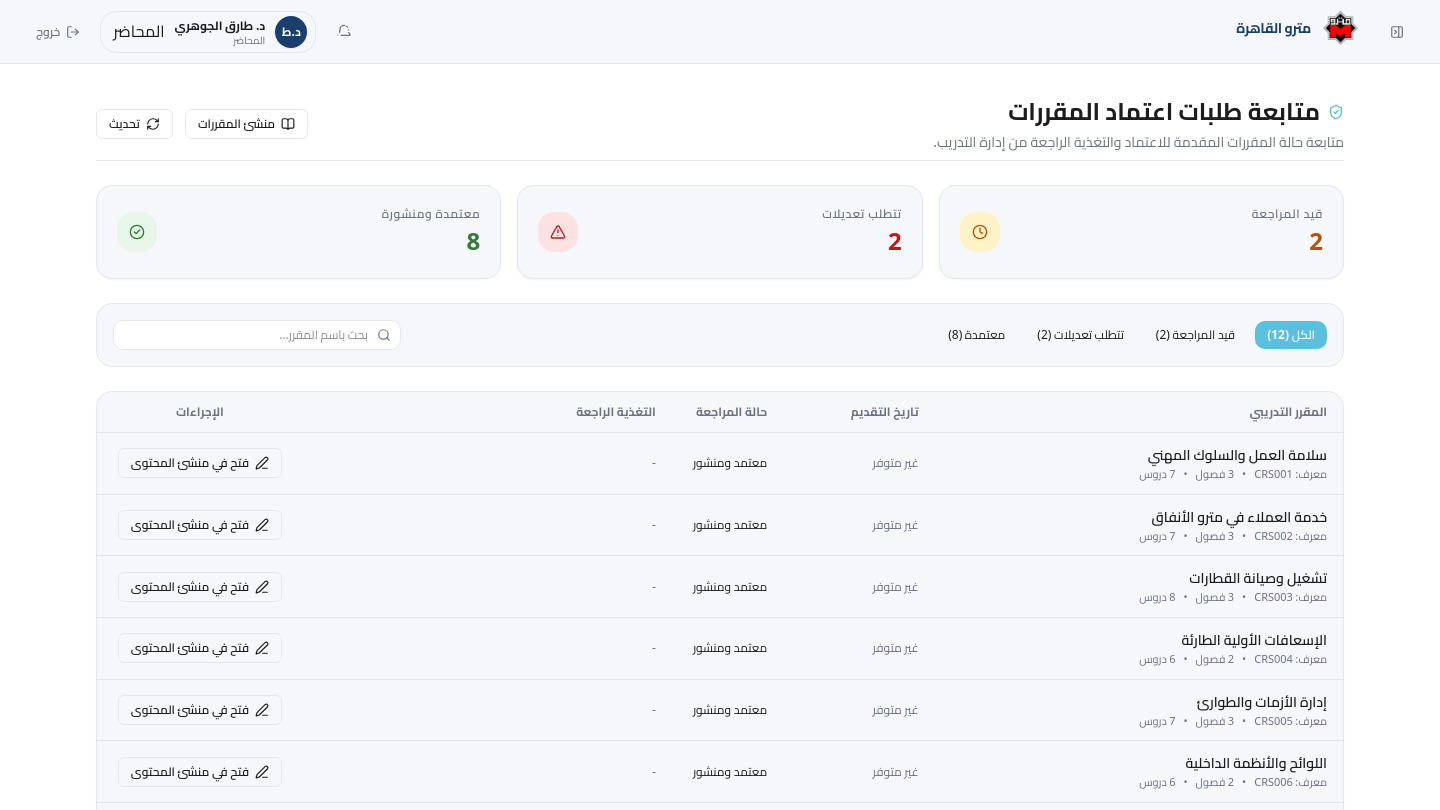
Scenario: Increment 9 — Review Workflow Demo Data Seeding & End-to-End Consistency › 2. Lecturer Approvals Dashboard & Submission States › filters lecturer submissions across tabs seamlessly
Note: Switch to "تتطلب تعديلات"
What coordinates should you click on to do the following:
click the button with test id "lecturer-filter-needs-revision"
I would click on:
 (1081, 335)
Its box is x1=1025 y1=321 x2=1136 y2=349.
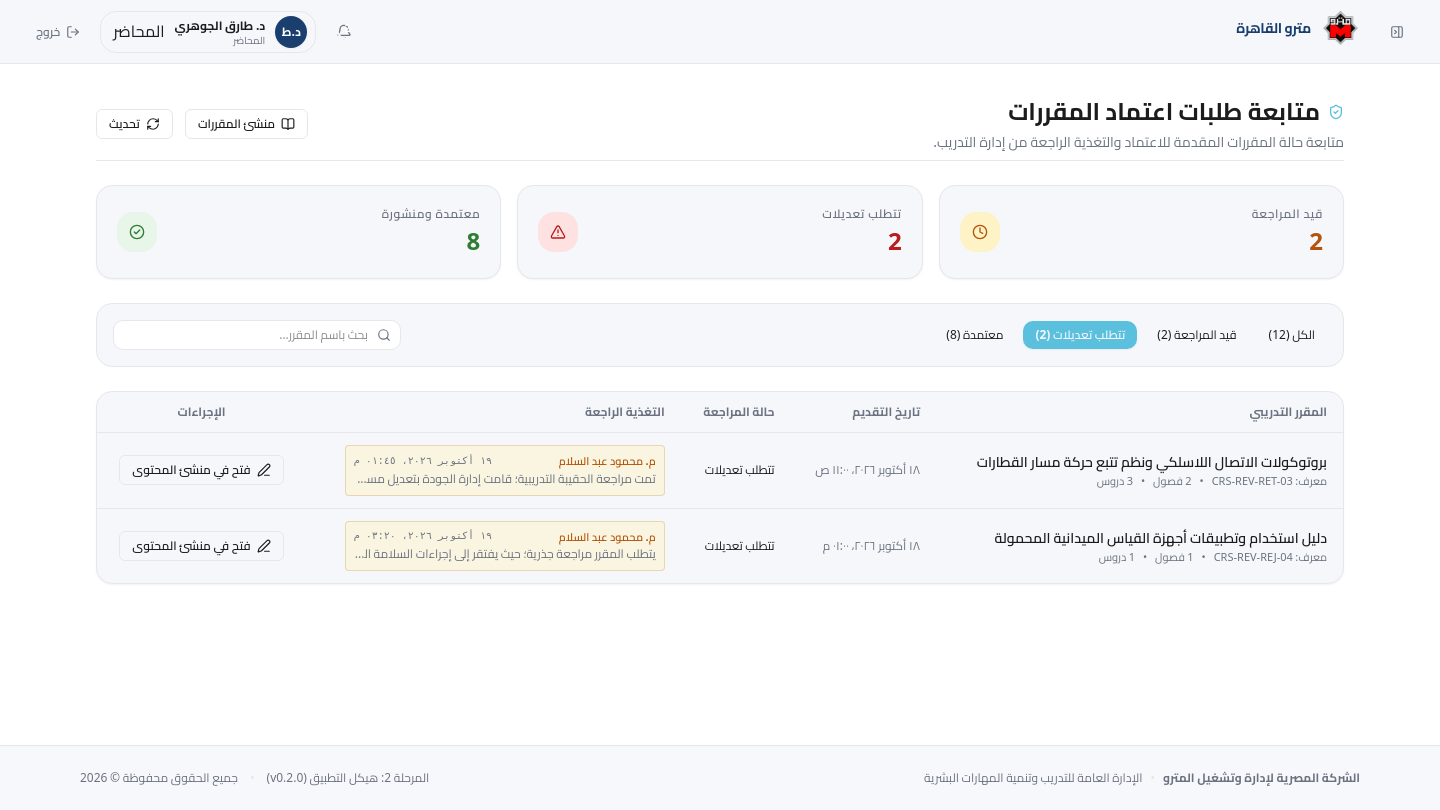
Expected: the row with test id "submission-row-CRS-REV-RET-03" is shown, x1=97 y1=432 x2=1343 y2=508
Expected: the row with test id "submission-row-CRS-REV-REJ-04" is shown, x1=97 y1=508 x2=1343 y2=583
Note: Switch to "معتمدة ومنشورة"
What coordinates should you click on to do the following:
click the button with test id "lecturer-filter-approved"
I would click on:
 (975, 335)
Its box is x1=934 y1=321 x2=1015 y2=349.
(page scrolled)
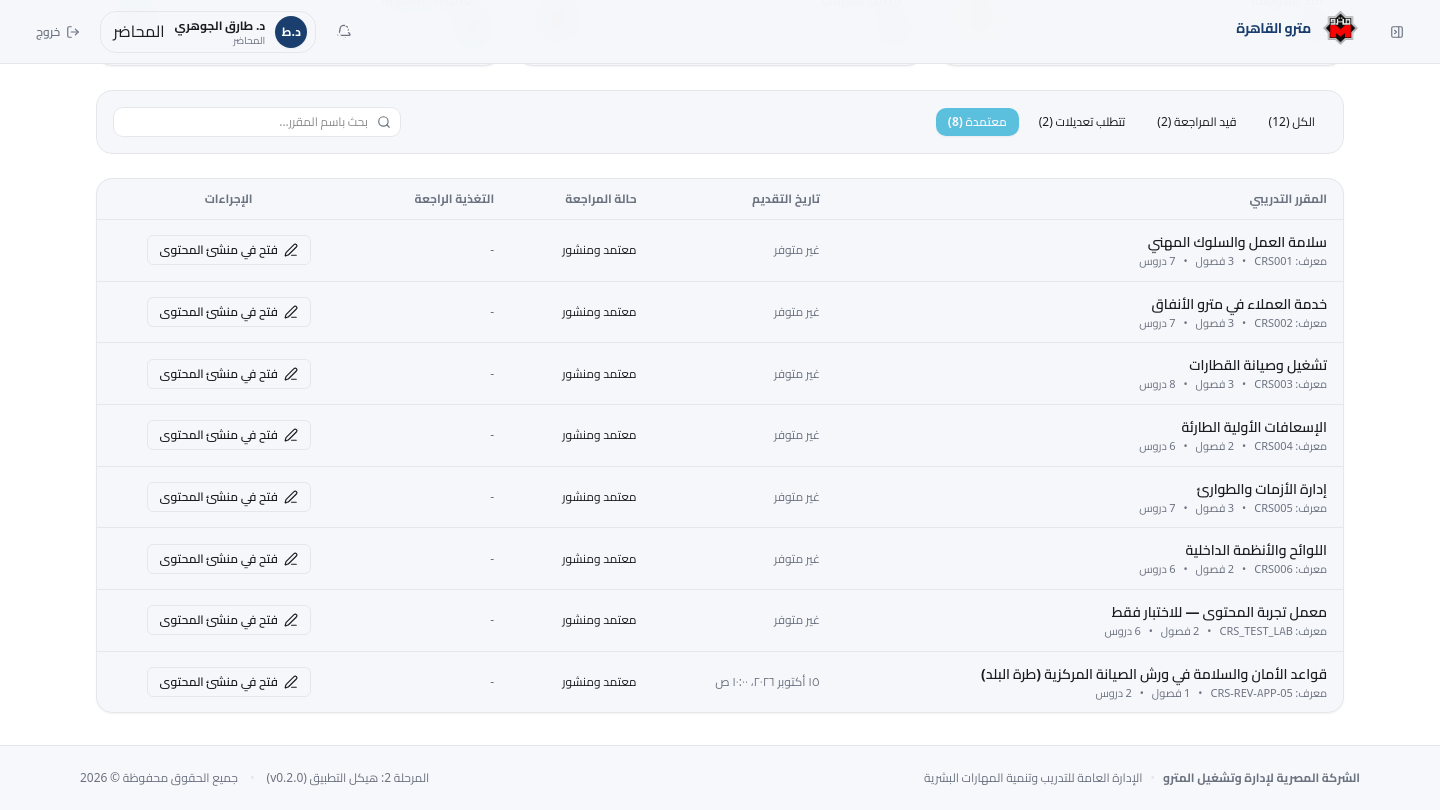
Now the row with test id "submission-row-CRS-REV-APP-05" is shown, box x1=97 y1=651 x2=1343 y2=712
Now the row with test id "submission-row-CRS-REV-RET-03" is gone
